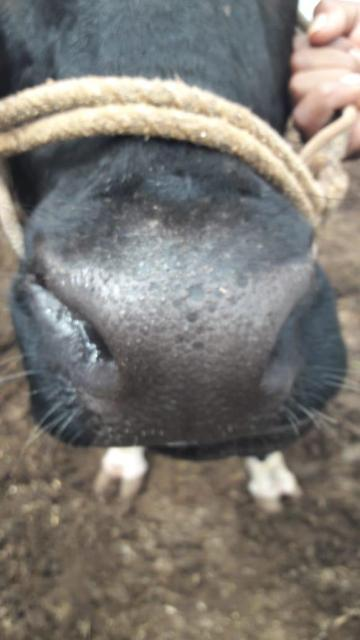Muzzle: (100, 261, 274, 434)
